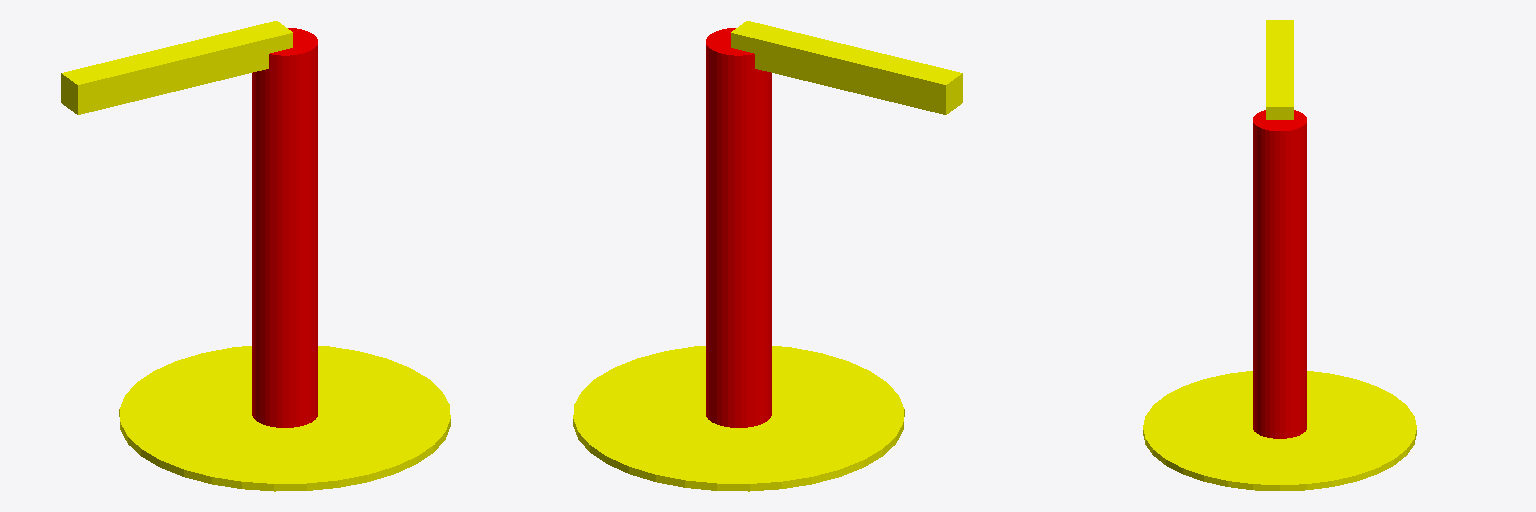
URDF robot description (simple_robot):
<robot name="simple_robot"> <!-- robot name- you decide -->
<!-- sequence : link-joint-link-joint-...-link... -->
<!-- units: meters for distance,rad in case of angles -->
<!-- first link called base_link -->
<link name= "base_link">
	<visual>
		<geometry>
			<cylinder length="0.01" radius="0.2"/>
		</geometry>
		<origin rpy="0 0 0" xyz="0 0 0"/> <!-- rpy: roll pitch yaw -> orientation xyz -> position --> 
		<material name= "base_color">
			<color rgba="1 1 0 1"/> 
		</material>
	</visual>

</link>
<!-- first joint-->
<joint name="joint1" type= "revolute"> <!-- types: revolute and prismatic -->
	<parent link="base_link"/>
	<child link="link1"/>
	<origin xyz ="0 0 0"/>
	<axis xyz="0 0 -1"/>
	<limit effort="300" velocity="0.1" lower="-3.14159" upper="3.14159"/>
	<dynamics damping="50" friction="1"/>

</joint>
<!-- link1-->
<link name= "link1">
	<visual>
		<geometry>
			<cylinder length="0.5" radius="0.04"/>
		</geometry>
		<origin rpy="0 0 0" xyz="0 0 0.25"/> <!-- rpy: roll pitch yaw -> orientation xyz -> position --> 
		<material name= "link1_color">
			<color rgba="1 0 0 1"/> 
		</material>
	</visual>

</link>


<!-- second joint-->
<joint name="joint2" type= "prismatic"> <!-- types: revolute and prismatic -->
	<parent link="link1"/>
	<child link="link2"/>
	<origin xyz ="0 0 0.5"/>
	<axis xyz="-1 0 0"/>
	<limit effort="300" velocity="0.1" lower="-0.3" upper="0.3"/>
    <dynamics damping="50" friction="1"/>

</joint>
<!-- link2-->
<link name= "link2">
	<visual>
		<geometry>
        	<box size="0.3 0.04 0.04"/>
      	</geometry>
		<origin rpy="0 0 0" xyz="-0.15 0 0"/> <!-- rpy: roll pitch yaw -> orientation xyz -> position --> 
		<material name= "link2_color">
			<color rgba="1 1 0 1"/> 
		</material>
	</visual>

</link>


<!-- link extra-->
<joint name="joint3" type="fixed">
	<parent link="link2"/>
	<child link="link3"/>
	<origin xyz="-0.3 0 0"/>
	<axis xyz="1 0 0"/>
	<limit effort="300" velocity="0.1" lower="-0.2" upper="0.0"/>
    <dynamics damping="50" friction="1"/>
</joint>
  
<link name="link3">
	<visual>
		<geometry>
			<box size="0.0 0.0 0.0"/>
		</geometry>
		<origin rpy="0 0 0" xyz="0 0 0"/> <!-- rpy: roll pitch yaw -> orientation xyz -> position --> 
        <material name= "link3_color">
            <color rgba="0 1 1 1"/> 
        </material>
	</visual>
</link>


</robot>

--- Facts derived from the render (not from the file) ---
Views: 3 orthographic renders of the robot side by side, from view 1: azimuth 30°, elevation 25°; view 2: azimuth 150°, elevation 25°; view 3: azimuth 270°, elevation 25°.
Model simple_robot with 4 links and 3 joints (1 revolute, 1 prismatic, 1 fixed), rooted at base_link, posed every joint at zero.
Visible links, largest first — view 1: base_link, link1, link2; view 2: base_link, link1, link2; view 3: base_link, link1, link2.
Link boxes in pixels (x1,y1,x2,y2): base_link: [119, 346, 450, 491]; link1: [252, 28, 317, 427]; link2: [61, 21, 292, 114]; base_link: [573, 346, 904, 491]; link1: [706, 28, 771, 427]; link2: [731, 21, 962, 114]; base_link: [1143, 371, 1416, 490]; link1: [1253, 110, 1306, 438]; link2: [1266, 20, 1293, 119].
Bounding box of the posed robot: 0.5 × 0.4 × 0.525 m (x, y, z).
Geometry: primitives only (box / cylinder / sphere), no mesh files.